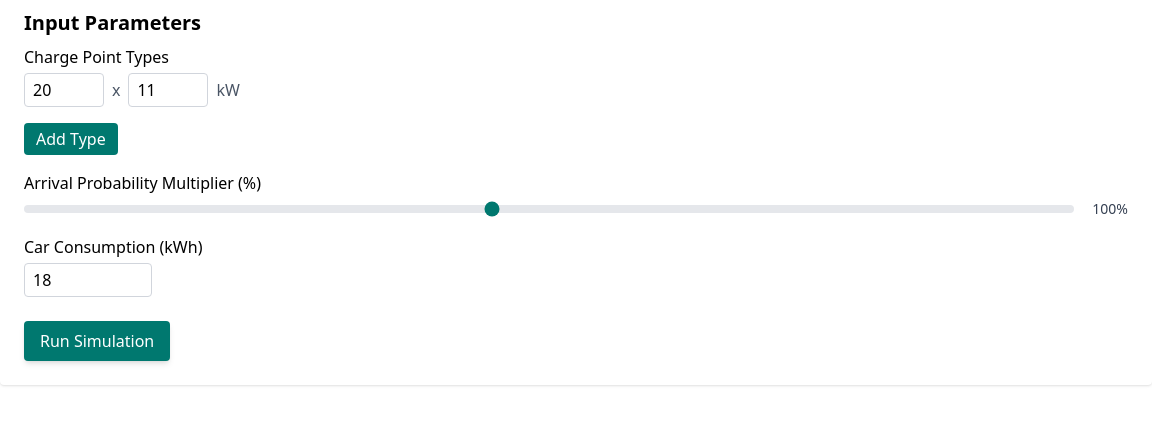
it: InputSection › allows removing a charge point type
The image size is (1152, 445).
Click the button "Add Type".
click(71, 139)  # box [24, 123, 118, 155]
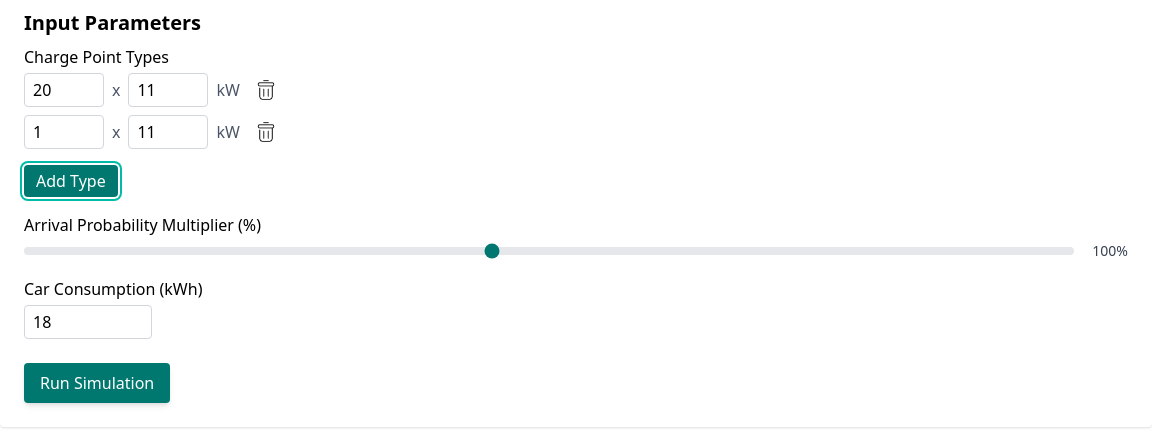
Click the button named "Remove charge point type".
click(266, 90)  # box [256, 80, 276, 100]
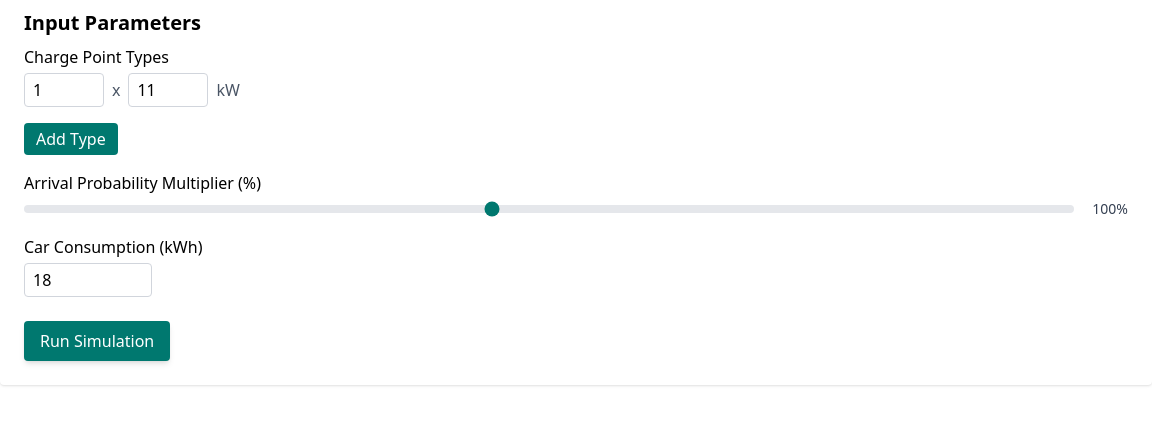
Expected: the number of number fields is 3, [24, 73, 104, 107]; [128, 73, 208, 107]; [24, 263, 152, 297]
